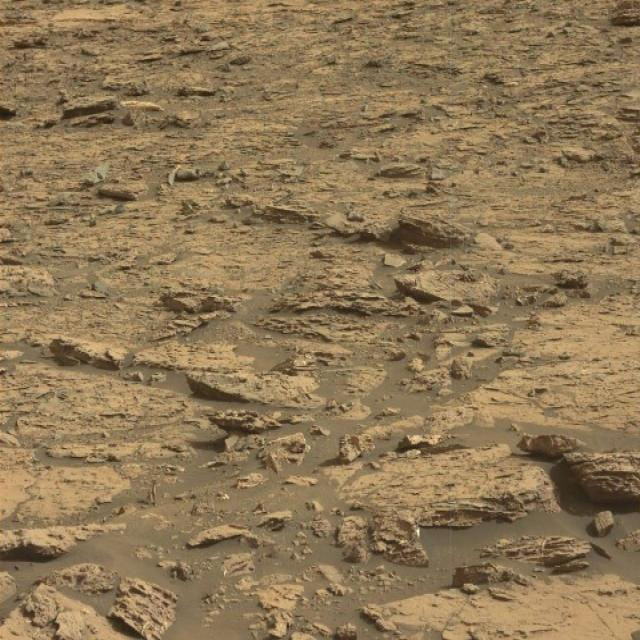rock: (566, 451, 640, 508), (395, 203, 471, 256), (206, 406, 284, 438), (516, 428, 587, 453)
